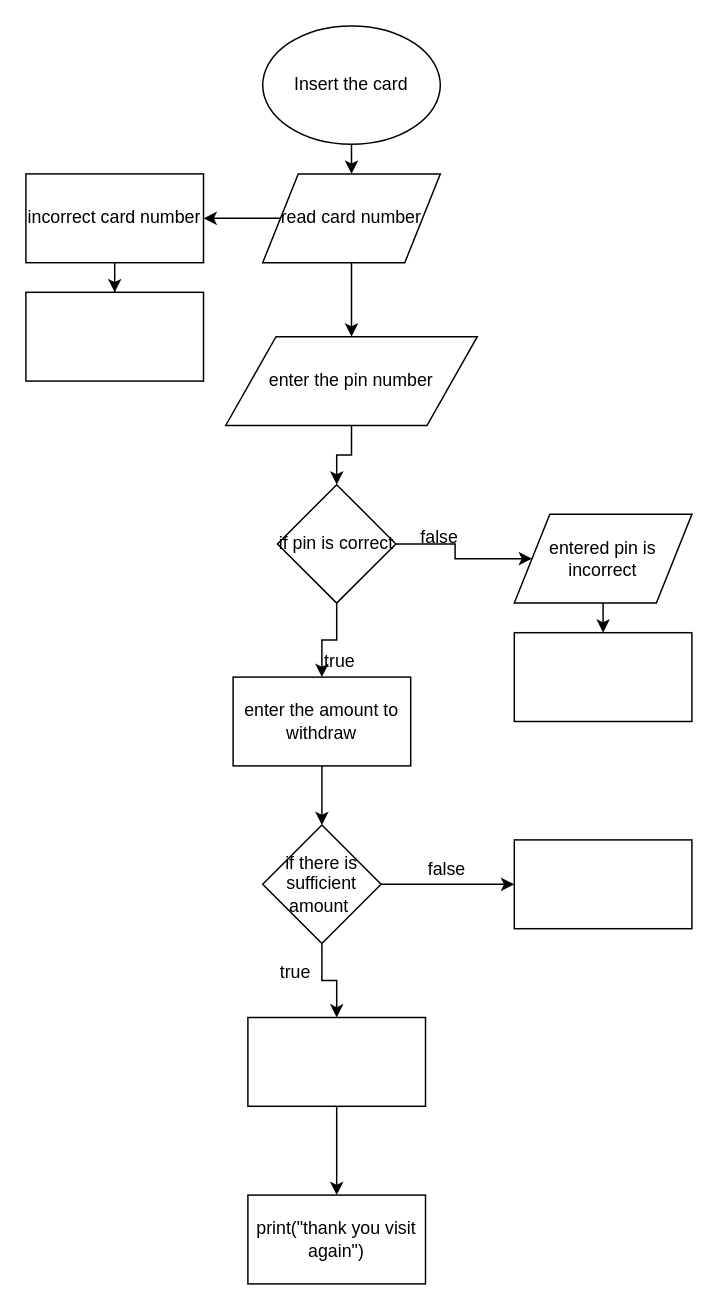
Image size: 718x1310. Some labels were removed from this diagram. Each missing label, with the centre of its shape:
display("insufficient fund"): point (602, 883)
end the transaction: point (114, 336)
end transaction: point (602, 676)
provide the money: point (336, 1061)
